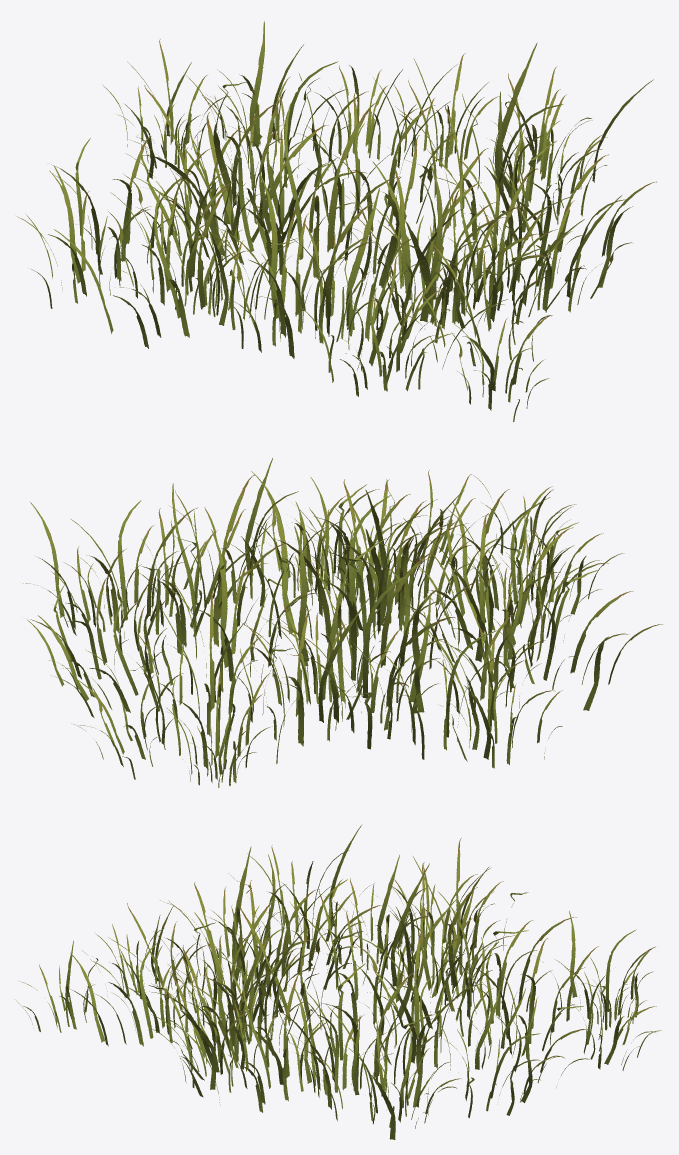
Rendered from Grass_big_dry_015.fbx.
3 views of the same model, one above another, from view 1: azimuth 30°, elevation 25°; view 2: azimuth 150°, elevation 25°; view 3: azimuth 270°, elevation 25° (orthographic). The views are drawn at different scales.
Visible parts, largest first — view 1: Grass_big_dry.015; view 2: Grass_big_dry.015; view 3: Grass_big_dry.015.
Boxes of the visible parts, x1=… form: Grass_big_dry.015: x1=17, y1=21, x2=656, y2=421; Grass_big_dry.015: x1=23, y1=458, x2=662, y2=787; Grass_big_dry.015: x1=14, y1=825, x2=661, y2=1139.
Size of the model in its own units: 91.22 by 26.68 by 98.87.
Materials: 1 (1 with a texture image).
